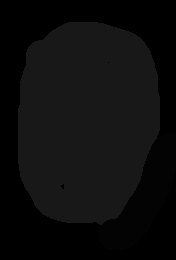fp: (15, 13, 160, 226)
